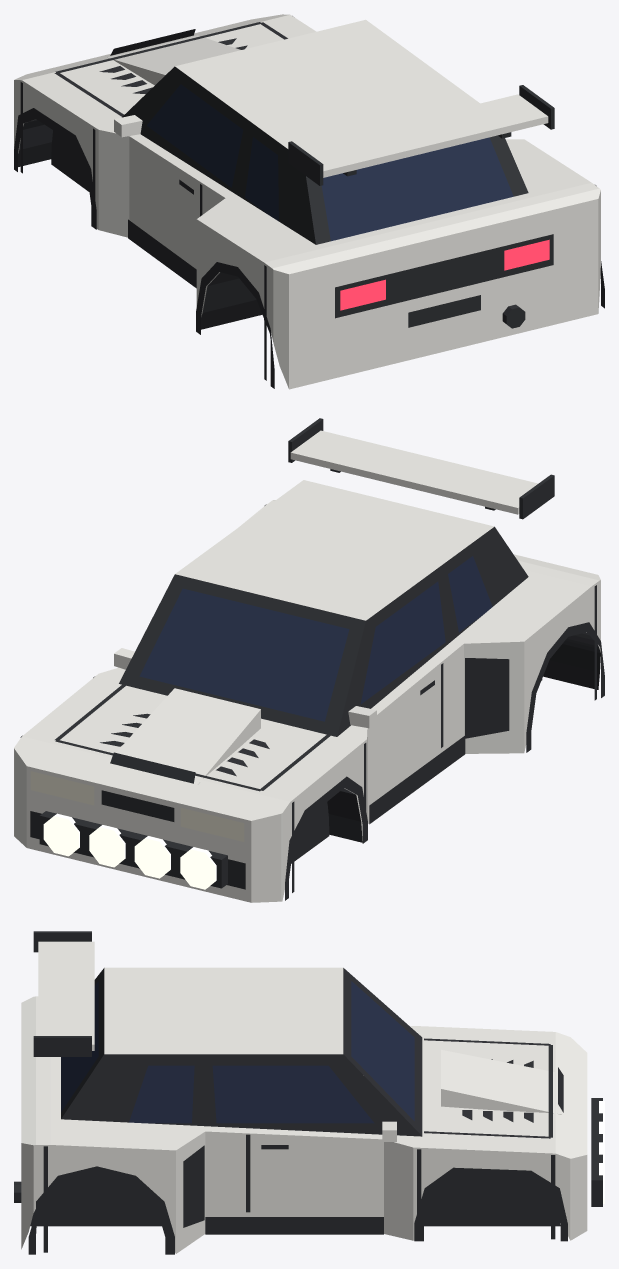
The model's file is Kumo.fbx.
3 views of the same model, one above another, from view 1: azimuth 30°, elevation 25°; view 2: azimuth 150°, elevation 25°; view 3: azimuth 270°, elevation 25° (orthographic). The views are drawn at different scales.
Parts seen in each view (by area): view 1: BumperRear, Roof, RearWindow, Door_FL, Cowl, Pillars, Opt_Wing_Rally_WingBlade, Hood, TailGarnish, Window_FL, Underbody, Fender_RL (+16 smaller); view 2: Roof, BumperFront, Windshield, Pillars, Hood, Opt_Wing_Rally_WingBlade, Fender_RL, Opt_Hood_Scoop_HoodScoop, Door_FL, Cowl, Window_FL, Opt_Bumper_Lamps_RallyLamp (+18 smaller); view 3: Roof, Pillars, Door_FR, WheelWell, Hood, Fender_RR, Window_FR, Cowl, BumperFront, Opt_Hood_Scoop_HoodScoop, Opt_Wing_Rally_WingBlade, Windshield (+14 smaller).
Boxes of the visible parts, x1,y1,x2,y2 form: BumperRear: [268, 185, 600, 389]; Roof: [175, 19, 479, 148]; RearWindow: [321, 137, 513, 241]; Door_FL: [94, 127, 203, 269]; Cowl: [94, 122, 591, 262]; Pillars: [122, 66, 528, 244]; Opt_Wing_Rally_WingBlade: [301, 94, 548, 177]; Hood: [22, 14, 316, 126]; TailGarnish: [335, 234, 553, 318]; Window_FL: [147, 84, 243, 187]; Underbody: [18, 119, 262, 329]; Fender_RL: [196, 184, 268, 320]; Roof: [175, 480, 494, 620]; BumperFront: [14, 736, 290, 902]; Windshield: [139, 588, 349, 721]; Pillars: [119, 526, 528, 736]; Hood: [22, 677, 362, 801]; Opt_Wing_Rally_WingBlade: [290, 430, 538, 514]; Fender_RL: [442, 584, 595, 753]; Opt_Hood_Scoop_HoodScoop: [107, 688, 260, 784]; Door_FL: [362, 662, 441, 823]; Cowl: [94, 506, 591, 742]; Window_FL: [360, 581, 445, 703]; Opt_Bumper_Lamps_RallyLamp: [43, 813, 216, 889]; Roof: [104, 967, 343, 1054]; Pillars: [61, 968, 422, 1136]; Door_FR: [245, 1133, 421, 1240]; WheelWell: [30, 1175, 560, 1226]; Hood: [421, 1026, 555, 1153]; Fender_RR: [43, 1131, 245, 1253]; Window_FR: [212, 1065, 374, 1123]; Cowl: [50, 1026, 421, 1150]; BumperFront: [555, 1032, 587, 1240]; Opt_Hood_Scoop_HoodScoop: [441, 1049, 562, 1114]; Opt_Wing_Rally_WingBlade: [38, 941, 94, 1050]; Windshield: [351, 981, 414, 1120].
Bounding box in the file's own units: 726 × 442 × 1211.
